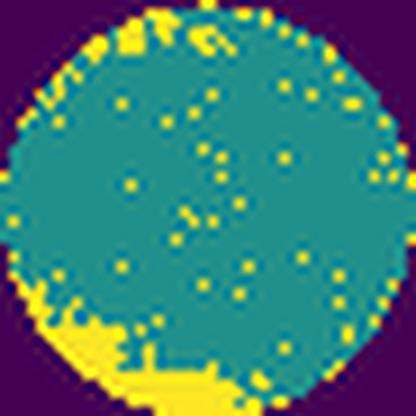Edge-Loc: (14, 263, 263, 416), (76, 1, 180, 65)
